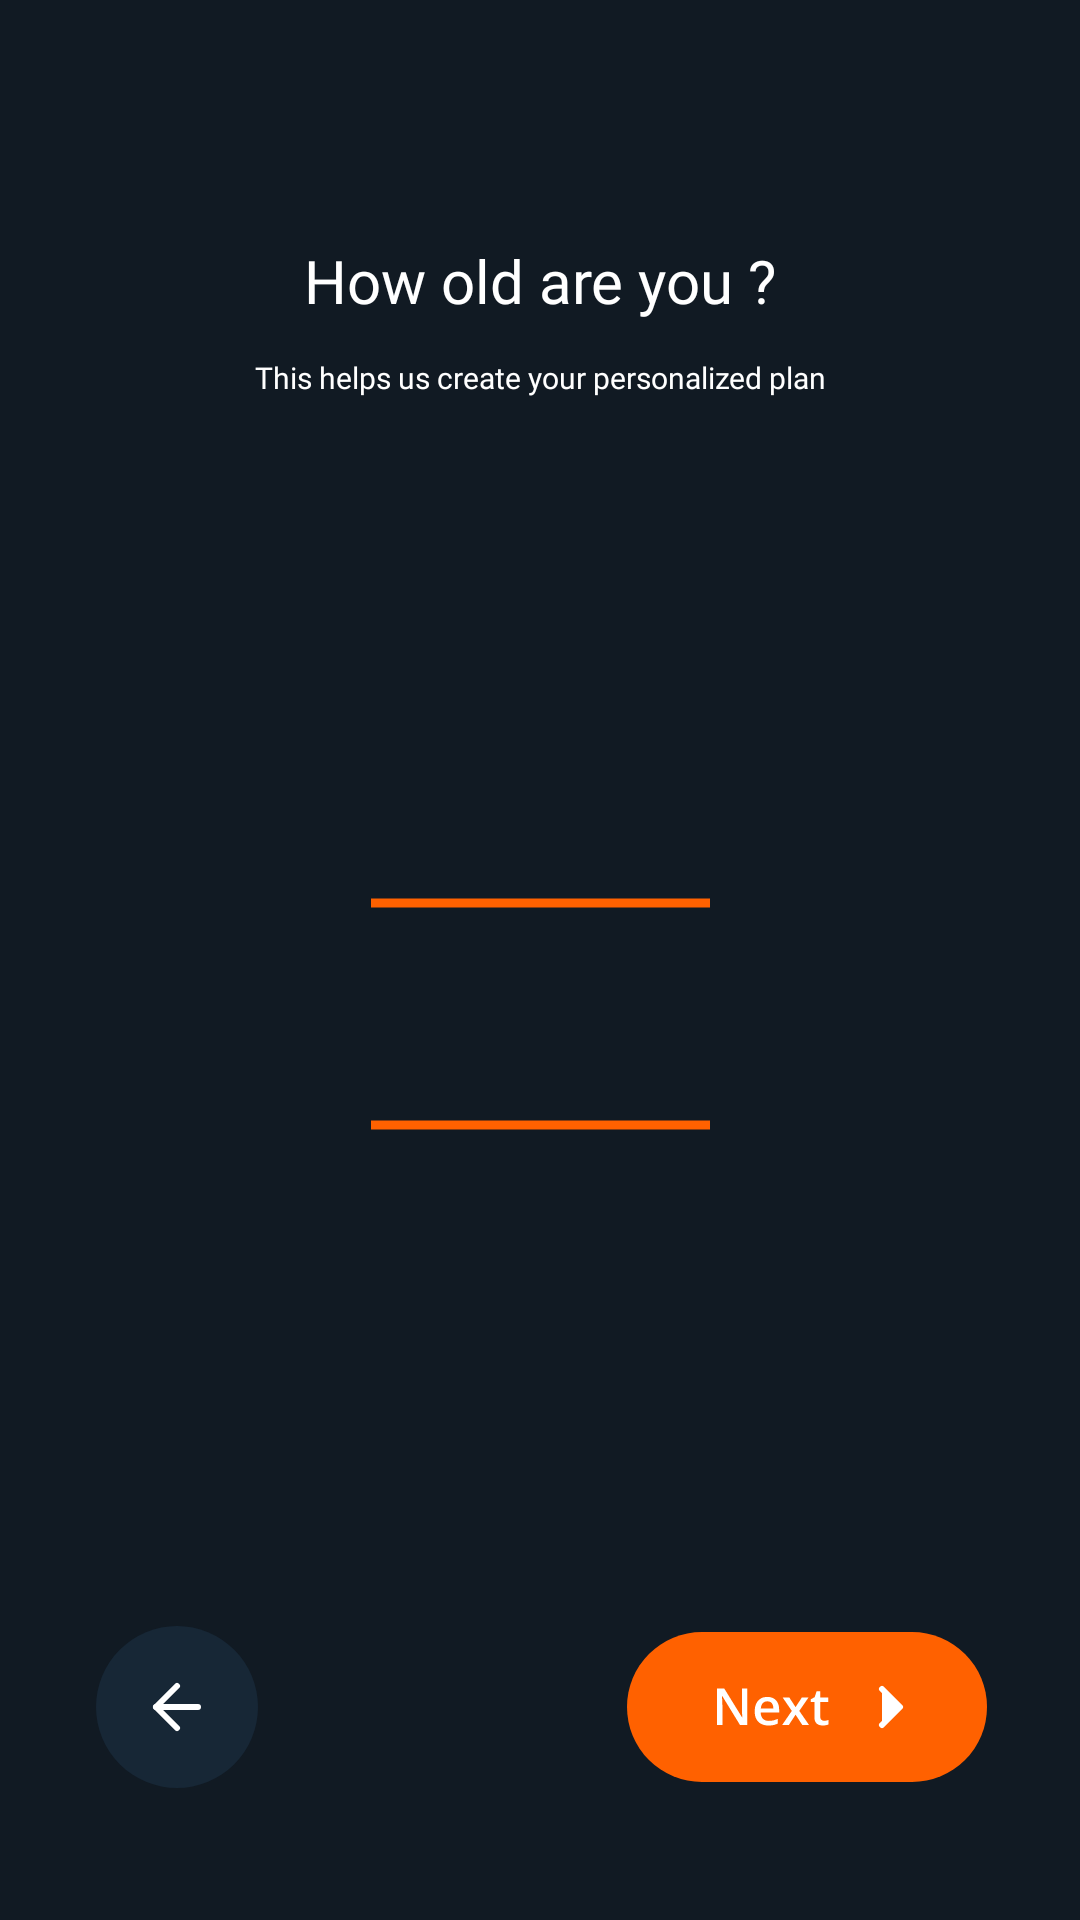

Named icons in this screenshot (1080×1920) and their bounding boxes, rect(x1, y1, x2, y2):
back: rect(96, 1626, 258, 1788)
